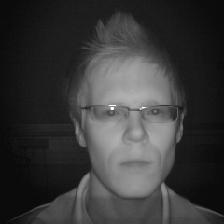happy: (55, 14, 205, 212)
